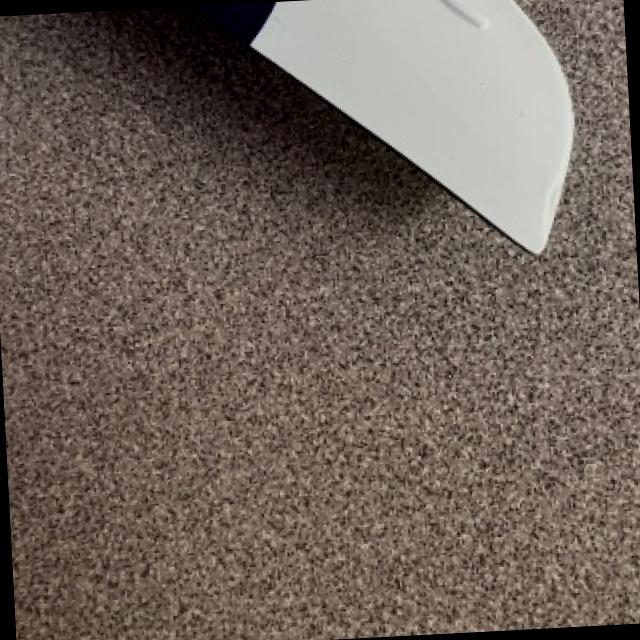healthy: (201, 0, 574, 249)
